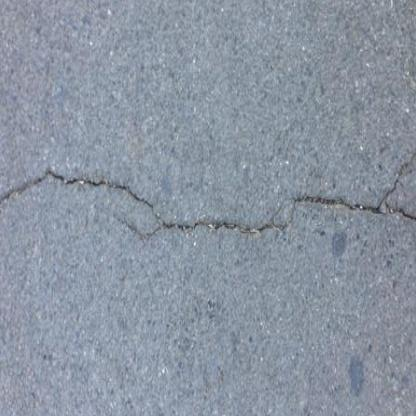Cracks: (0, 162, 416, 255), (358, 118, 416, 219)
